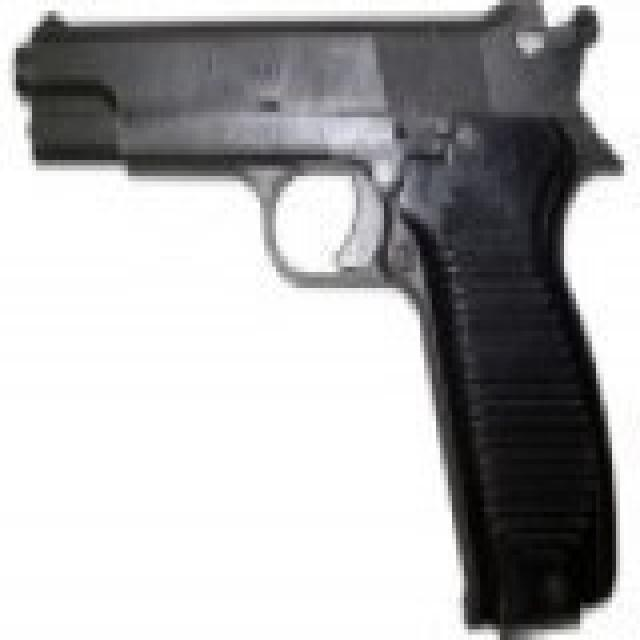Gun: (11, 4, 635, 616)
